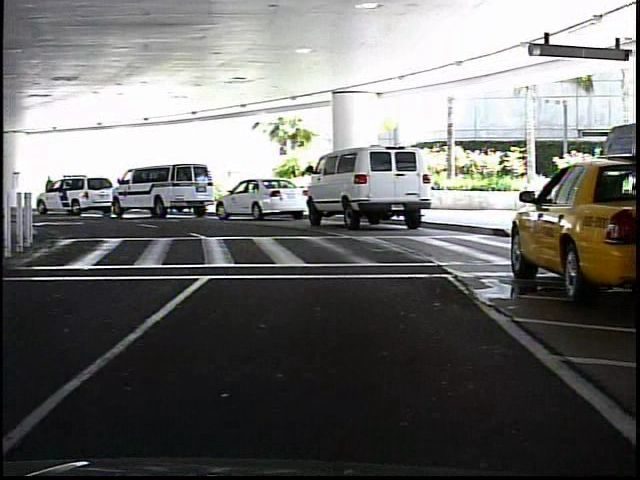person: (42, 173, 59, 210)
